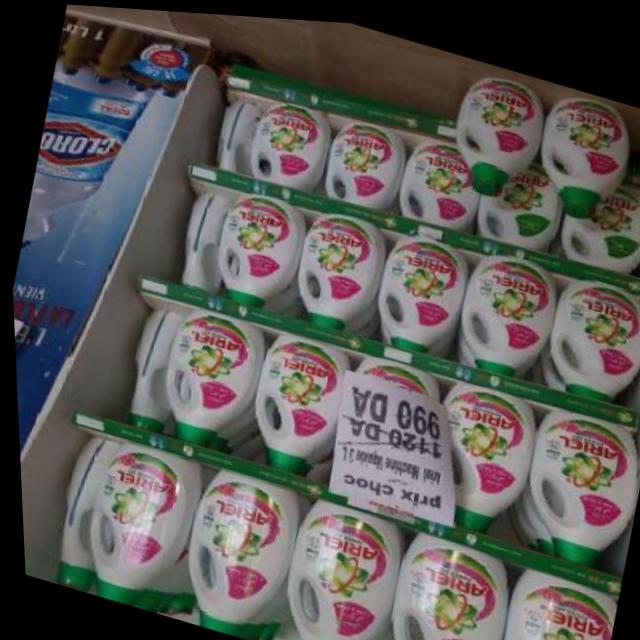Detergent: (62, 434, 206, 619), (159, 461, 304, 640), (507, 395, 640, 570), (419, 370, 545, 541), (229, 322, 360, 486), (262, 487, 402, 640), (144, 299, 263, 458), (363, 520, 510, 640), (516, 78, 640, 220), (529, 258, 640, 411), (436, 60, 554, 199), (446, 239, 561, 378), (362, 219, 476, 357), (278, 199, 391, 337), (202, 175, 309, 312), (314, 108, 415, 217), (481, 560, 615, 640), (242, 90, 332, 198), (393, 126, 486, 229)
